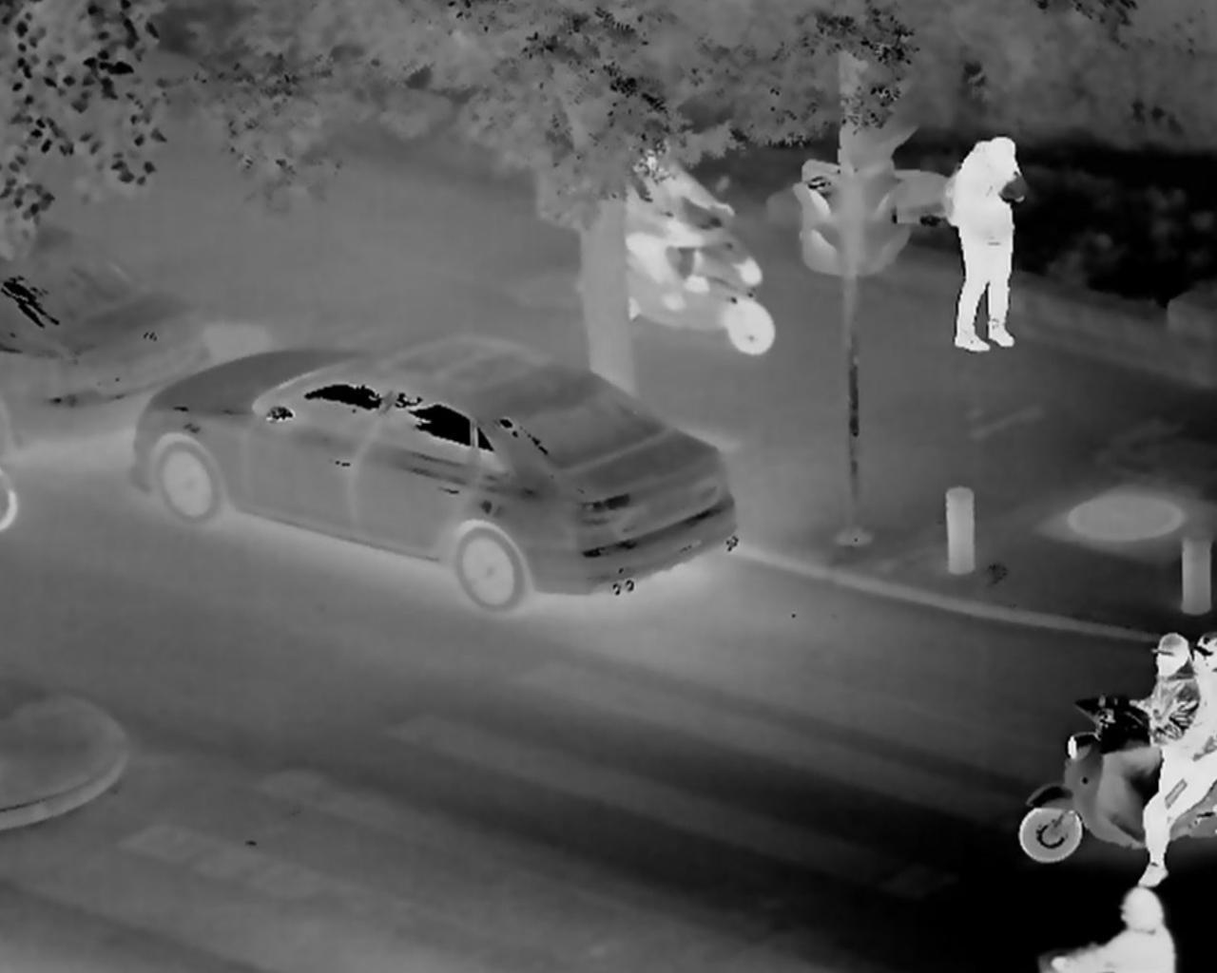person: (926, 129, 1040, 363), (628, 124, 742, 332), (1129, 628, 1199, 884), (1036, 879, 1180, 973), (1188, 639, 1217, 800)
